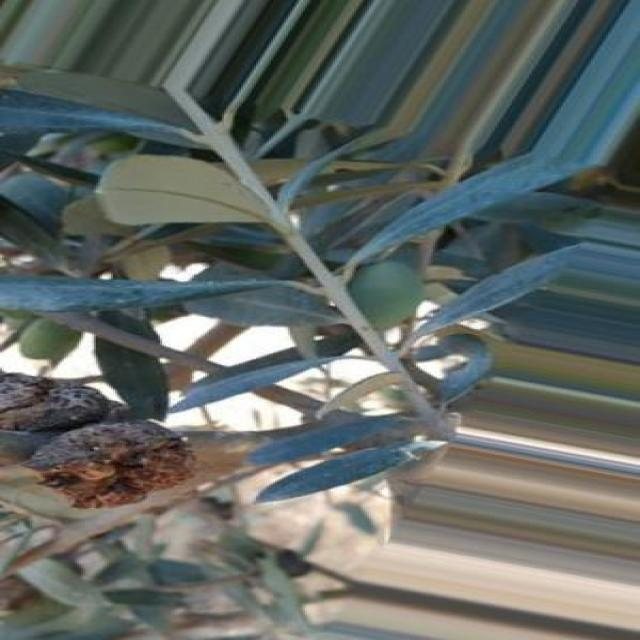Tuberculosis: (0, 372, 196, 508)
